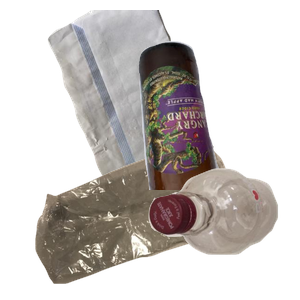glass: (136, 39, 300, 219)
paper: (45, 10, 251, 190)
plastic: (146, 166, 300, 300)
trash: (33, 145, 270, 300)
